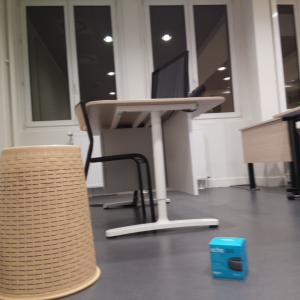medium: (1, 146, 98, 300)
small: (209, 235, 248, 281)
